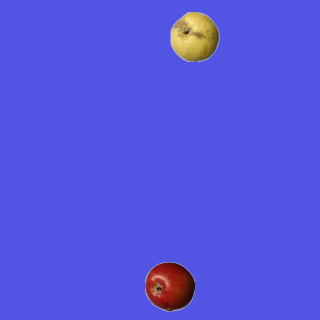Apple Braeburn: (144, 261, 194, 311)
Apple Golden 1: (169, 11, 219, 61)
